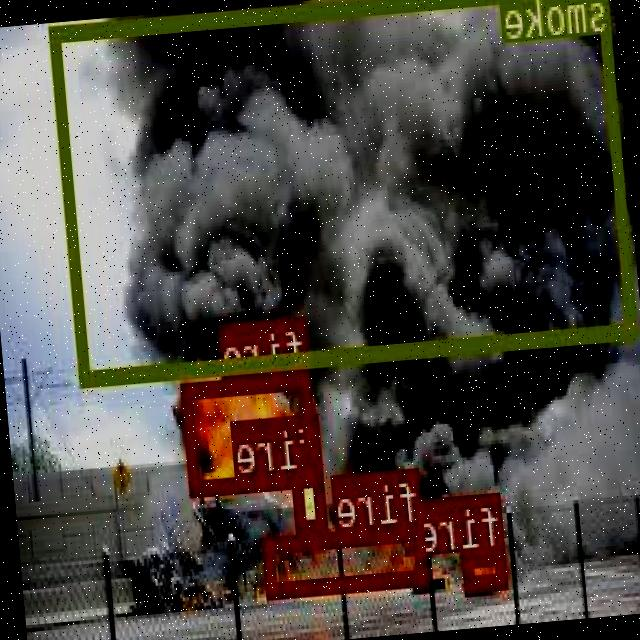fire: (184, 368, 320, 492), (264, 520, 430, 596), (293, 468, 329, 533), (464, 544, 509, 587)
smoke: (50, 0, 639, 383)
